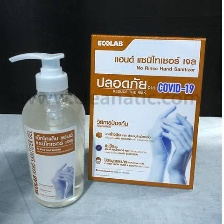book: (84, 29, 208, 193)
cleaning_solution: (7, 49, 89, 210)
